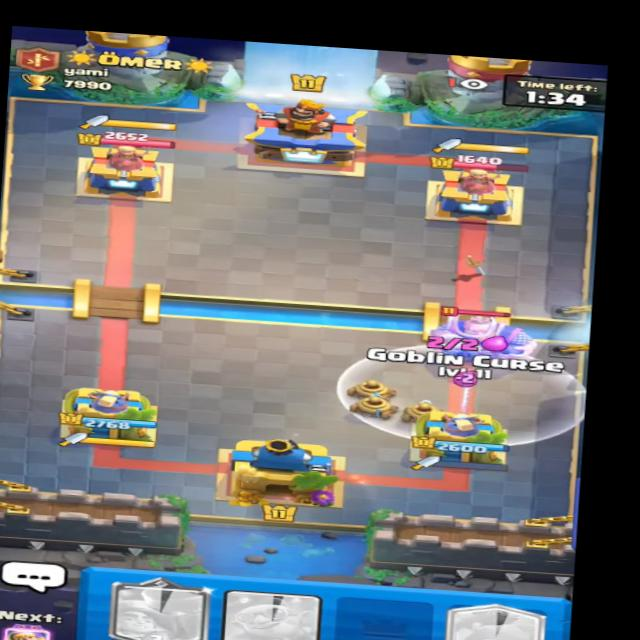royal-giant: (414, 300, 537, 366)
